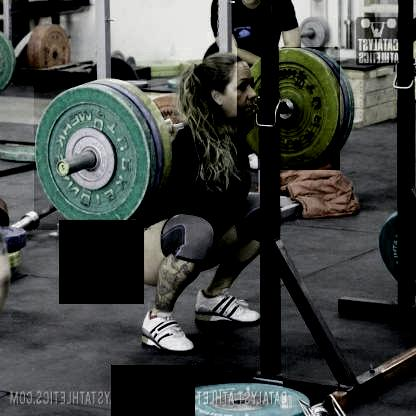barbell: (33, 85, 150, 231), (236, 48, 339, 170)
